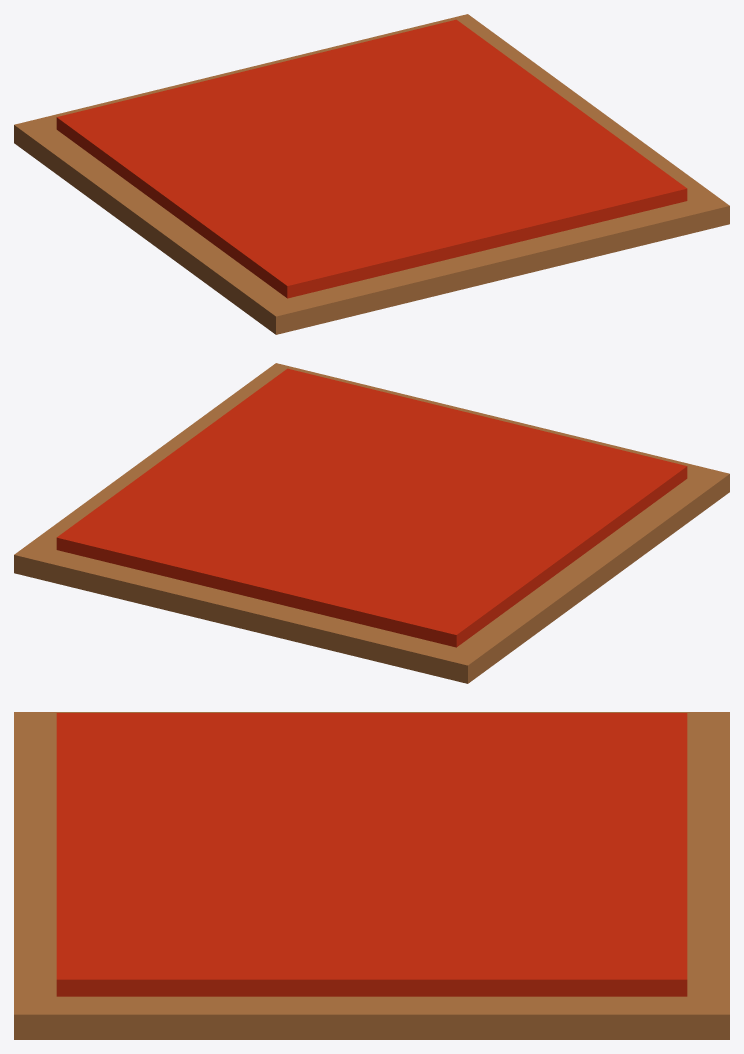
Rendered from ground_button.dae.
3 views of the same model, one above another, from view 1: azimuth 30°, elevation 25°; view 2: azimuth 150°, elevation 25°; view 3: azimuth 270°, elevation 25° (orthographic). The views are drawn at different scales.
Parts seen in each view (by area): view 1: Cube; view 2: Cube; view 3: Cube.
Boxes of the visible parts, x1=… form: Cube: x1=14, y1=14, x2=729, y2=334; Cube: x1=14, y1=363, x2=729, y2=683; Cube: x1=14, y1=712, x2=729, y2=1039.
Bounding box in the file's own units: 2 × 2 × 0.1298.
